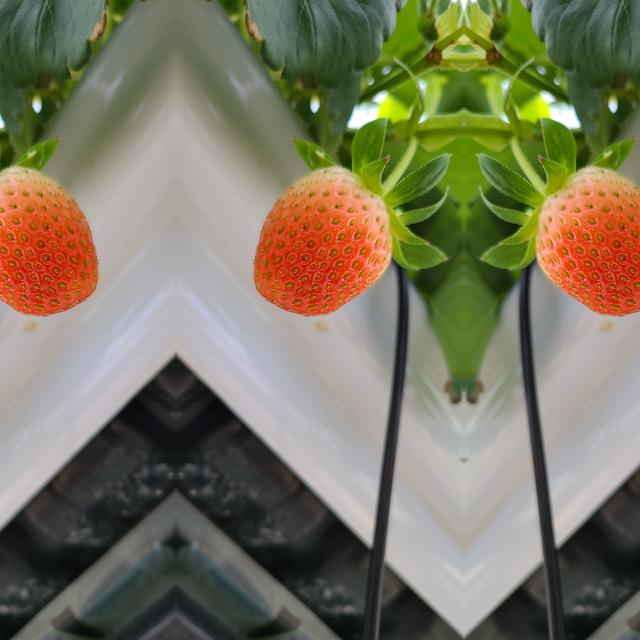Health_100: (250, 165, 392, 317), (534, 165, 640, 317), (0, 165, 99, 317)
